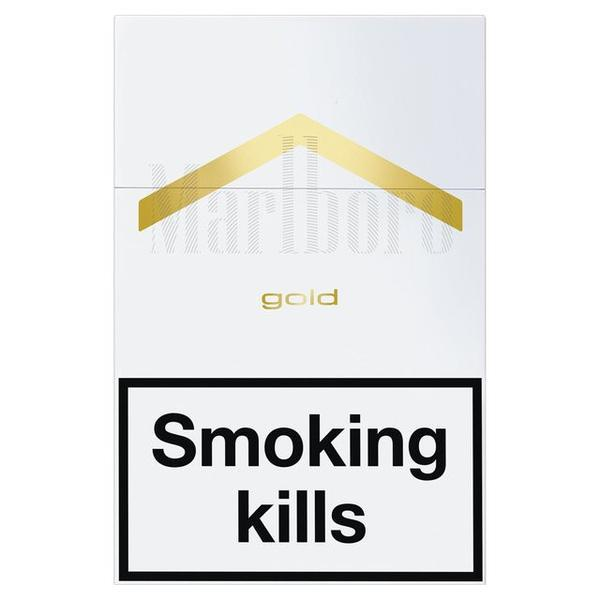marlboro_gold: (117, 19, 483, 581)
